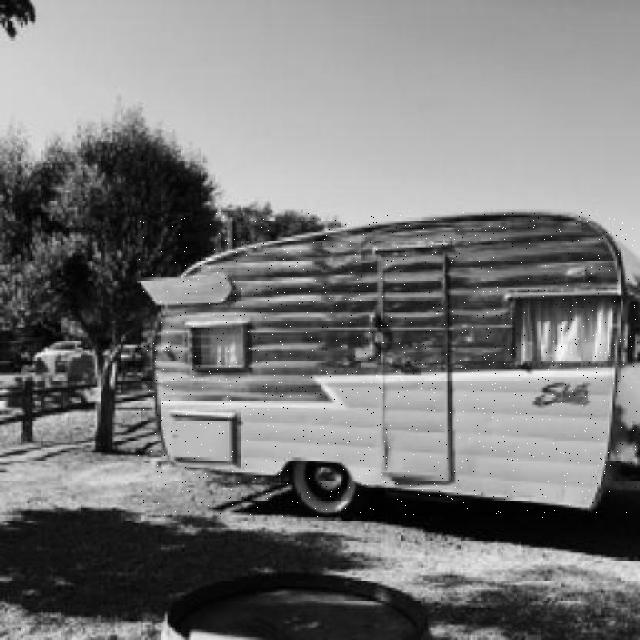Trailer: (137, 212, 640, 519)
